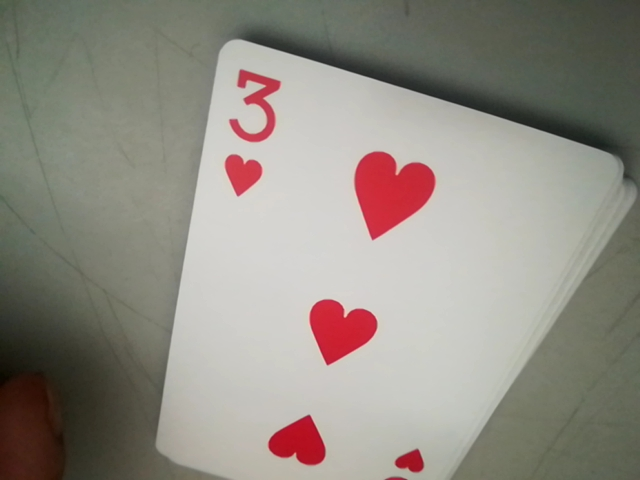hx 3: (211, 52, 290, 193)
